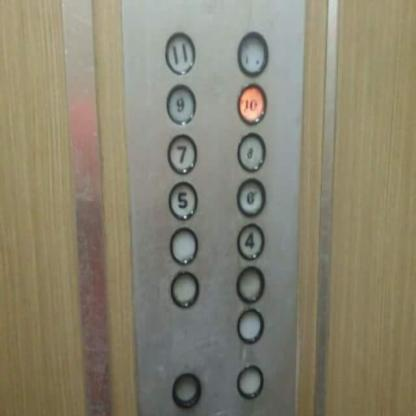10: (235, 80, 266, 125)
11: (163, 29, 196, 74)
4: (235, 220, 264, 259)
5: (166, 178, 198, 222)
6: (237, 178, 265, 216)
7: (166, 131, 196, 175)
8: (234, 131, 266, 172)
9: (166, 84, 196, 124)
blur: (236, 30, 268, 76)
empty: (168, 223, 198, 264), (170, 369, 201, 408), (235, 262, 264, 302), (170, 270, 198, 308), (236, 361, 264, 399), (236, 306, 263, 344)
